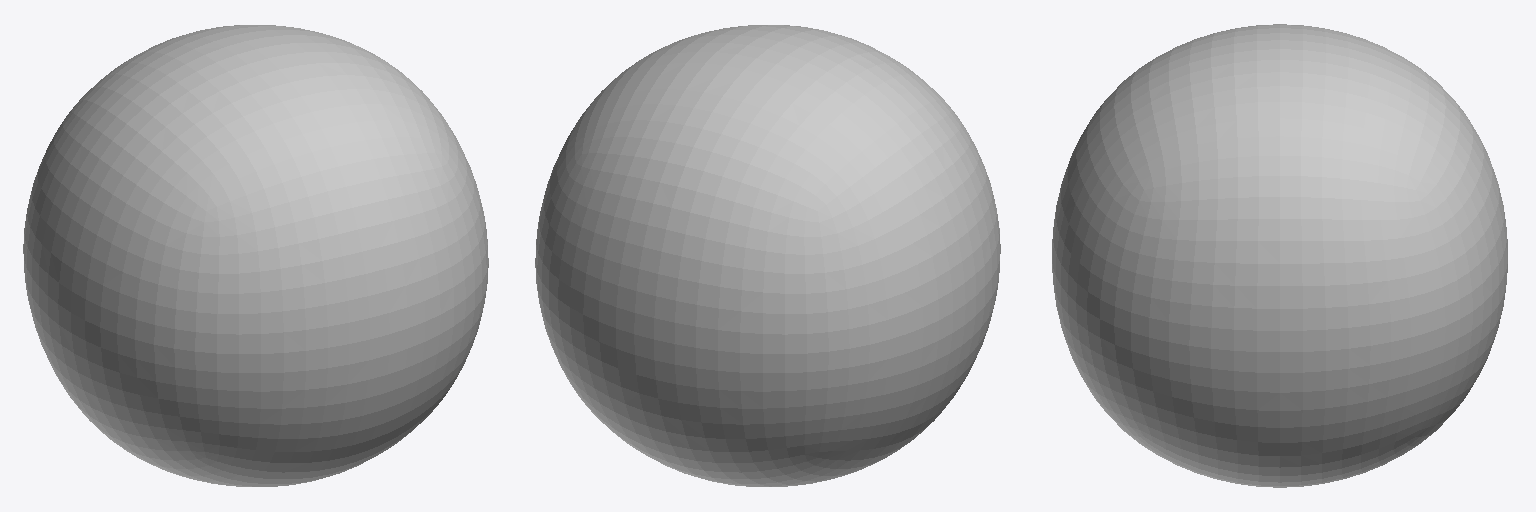
3 views of the same model, side by side, from view 1: azimuth 30°, elevation 25°; view 2: azimuth 150°, elevation 25°; view 3: azimuth 270°, elevation 25° (orthographic).
Parts seen in each view (by area): view 1: 立方体.001; view 2: 立方体.001; view 3: 立方体.001.
Part boxes in pixels (left/top/right/bottom): 立方体.001: left=23, top=25, right=488, bottom=486; 立方体.001: left=535, top=25, right=1000, bottom=486; 立方体.001: left=1052, top=24, right=1507, bottom=487.
Size of the model in its own units: 1.68 by 1.68 by 1.68.